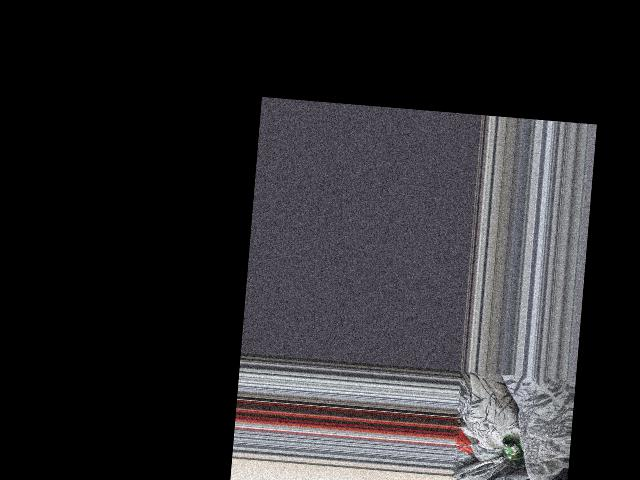beer: (501, 436, 525, 465)
